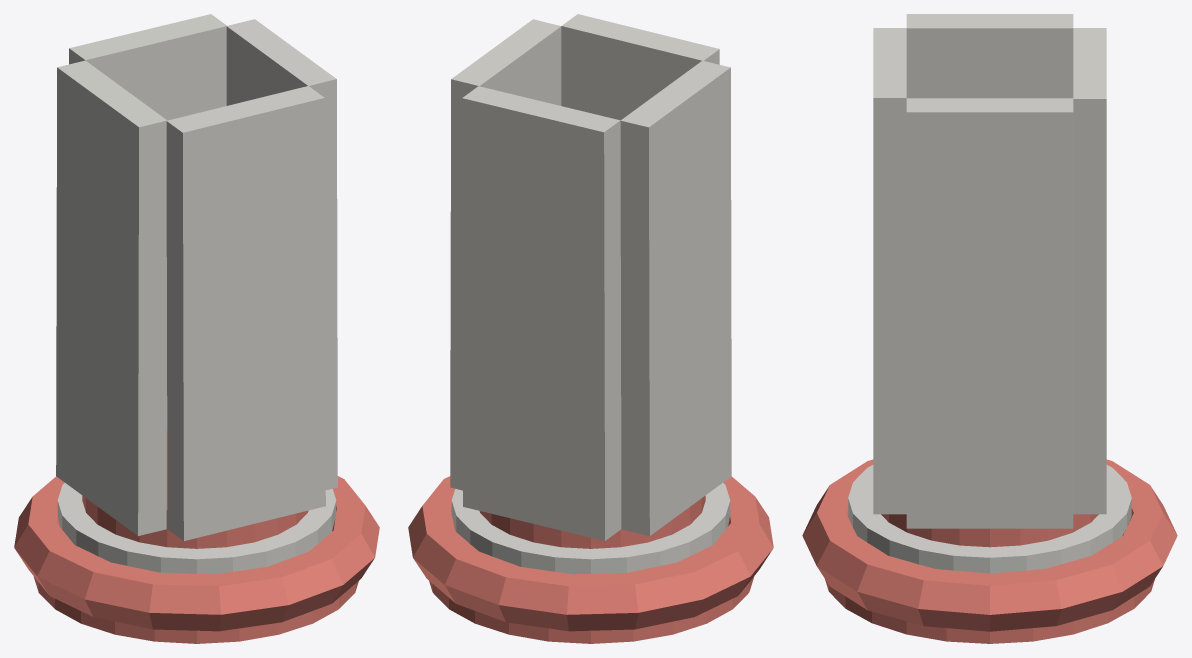
File: item_37_shuttlecock.glb
3 views of the same model, side by side, from view 1: azimuth 30°, elevation 25°; view 2: azimuth 150°, elevation 25°; view 3: azimuth 270°, elevation 25° (orthographic).
Parts seen in each view (by area): view 1: I37_Feather3, I37_Feather1, I37_Rubber, I37_Feather0, I37_Feather2, I37_Wash1, I37_Wash0, I37_Wash2; view 2: I37_Feather2, I37_Feather1, I37_Rubber, I37_Feather0, I37_Feather3, I37_Wash1, I37_Wash0, I37_Wash2; view 3: I37_Feather0, I37_Rubber, I37_Feather2, I37_Feather3, I37_Feather1, I37_Wash1, I37_Wash0, I37_Wash2.
Boxes of the visible parts, x1,y1,x2,y2 form: I37_Feather3: (166,86,325,540); I37_Feather1: (56,60,166,535); I37_Rubber: (14,476,379,631); I37_Feather0: (226,19,337,490); I37_Feather2: (69,14,226,430); I37_Wash1: (57,483,336,574); I37_Wash0: (33,576,358,643); I37_Wash2: (82,431,308,548); I37_Feather2: (462,86,621,540); I37_Feather1: (620,60,731,535); I37_Rubber: (408,476,773,631); I37_Feather0: (450,19,561,490); I37_Feather3: (561,14,719,120); I37_Wash1: (451,483,730,574); I37_Wash0: (429,576,754,643); I37_Wash2: (479,495,705,548); I37_Feather0: (906,98,1073,528); I37_Rubber: (802,459,1177,631); I37_Feather2: (1073,28,1106,514); I37_Feather3: (873,28,906,514); I37_Feather1: (906,14,1073,98); I37_Wash1: (848,465,1131,573); I37_Wash0: (825,579,1154,643); I37_Wash2: (881,514,1098,547).
Bounding box in the file's own units: 0.045 × 0.0675 × 0.045.
